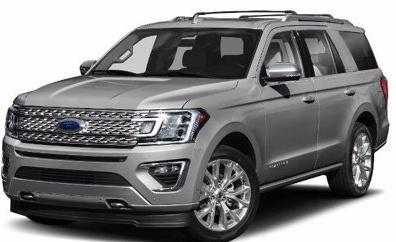SUV: (2, 11, 388, 242)
